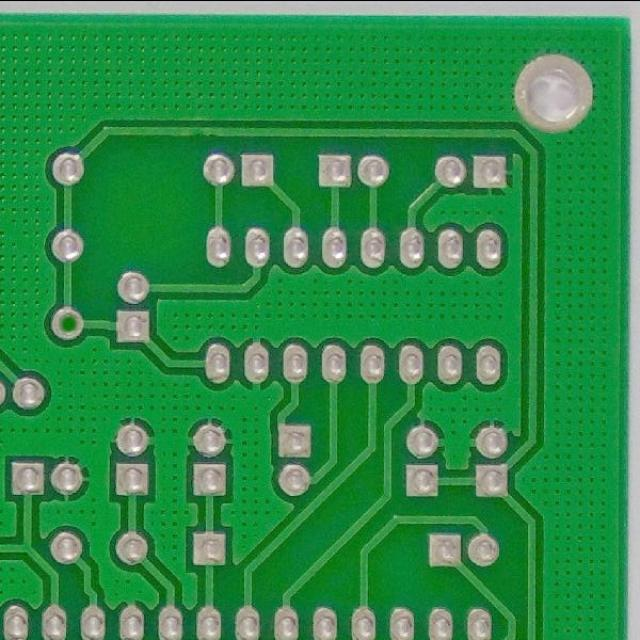Missing_Hole: (47, 304, 88, 342)
